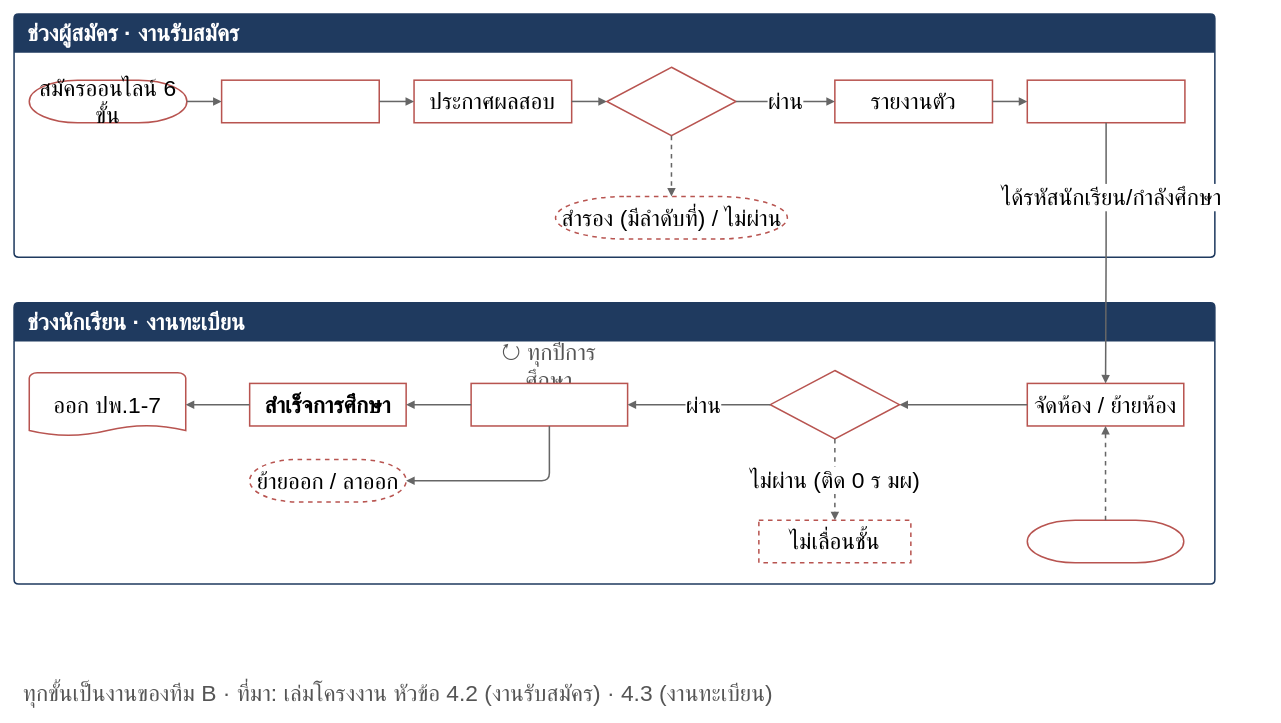
Some shapes in this 1281 by 723 pixel diagram are drawn without their labels. Here are the shapes that lost their labels. From the top down, the centre of each, then its label:
At point (300, 101): "ชำระเงินค่าสอบ".
At point (671, 101): "ผลสอบ?".
At point (1105, 101): "มอบตัว".
At point (549, 404): "เลื่อนชั้น".
At point (834, 404): "ผ่านเกณฑ์?".
At point (1105, 541): "ย้ายเข้าจากโรงเรียนอื่น".
